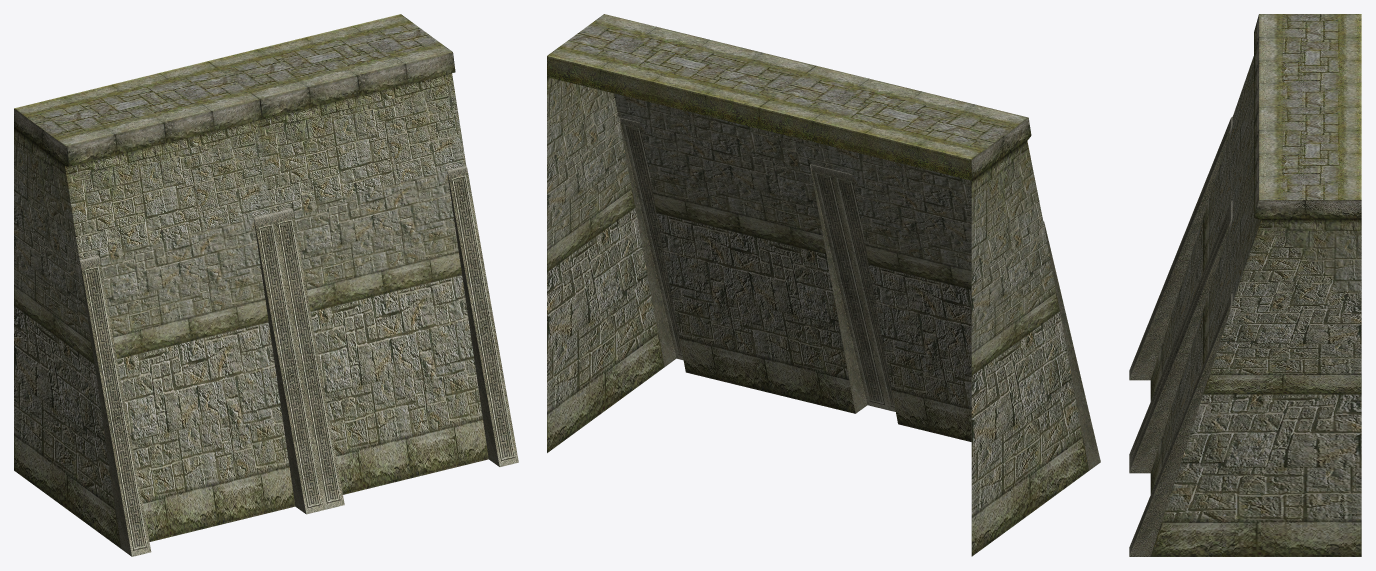
File: secret_bigwall_02.fbx
3 views of the same model, side by side, from view 1: azimuth 30°, elevation 25°; view 2: azimuth 150°, elevation 25°; view 3: azimuth 270°, elevation 25° (orthographic). The views are drawn at different scales.
Parts seen in each view (by area): view 1: secret_bigwall_02; view 2: secret_bigwall_02; view 3: secret_bigwall_02.
Boxes of the visible parts, <box> form: secret_bigwall_02: <box>14,14,518,556</box>; secret_bigwall_02: <box>547,14,1100,556</box>; secret_bigwall_02: <box>1129,14,1361,556</box>.
Size of the model in its own units: 20 by 17.9 by 10.57.
